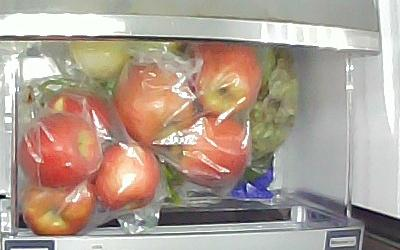apple_vinyl: (114, 62, 195, 146), (22, 112, 103, 187), (187, 43, 262, 115), (172, 116, 250, 185), (89, 142, 160, 212), (20, 181, 96, 237), (48, 90, 112, 139)
